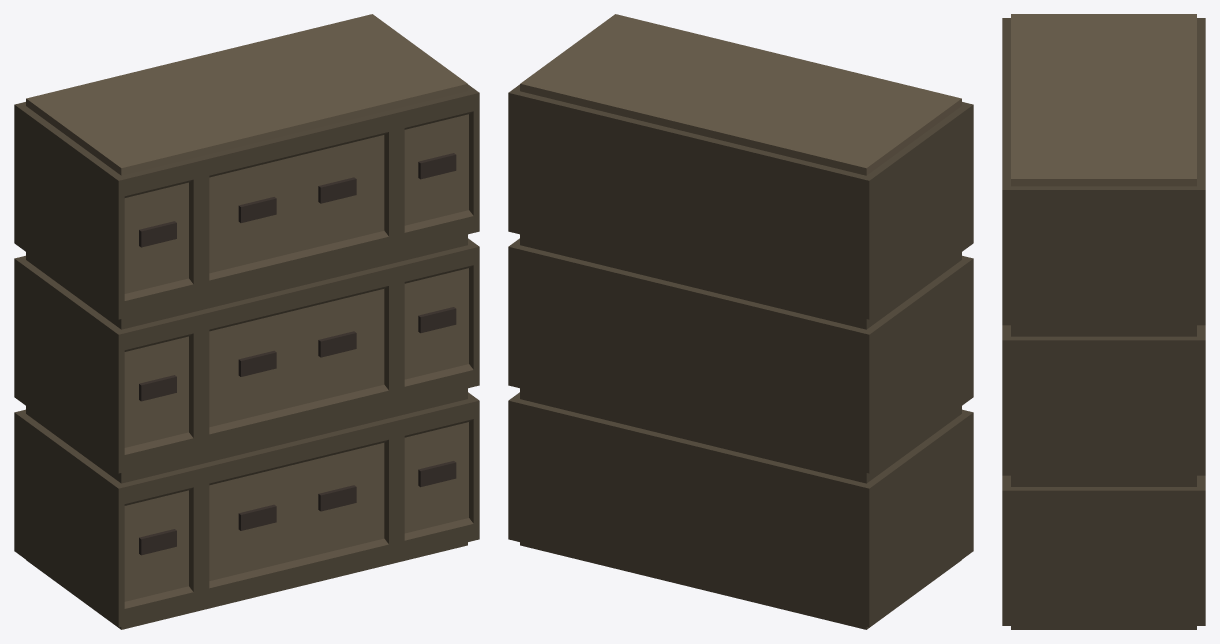
File: furn-dresser-tall-3drawer.glb
3 renders of one model, left to right at view 1: azimuth 30°, elevation 25°; view 2: azimuth 150°, elevation 25°; view 3: azimuth 270°, elevation 25°, orthographic. The views are drawn at different scales.
Visible parts, largest first — view 1: Drawer_3; view 2: Drawer_3; view 3: Drawer_3.
Part boxes in pixels (x1,y1,x2,y2): Drawer_3: (14, 14, 479, 629); Drawer_3: (508, 14, 973, 629); Drawer_3: (1002, 14, 1205, 629).
Bounding box in the file's own units: 0.9 × 1.1 × 0.45.
